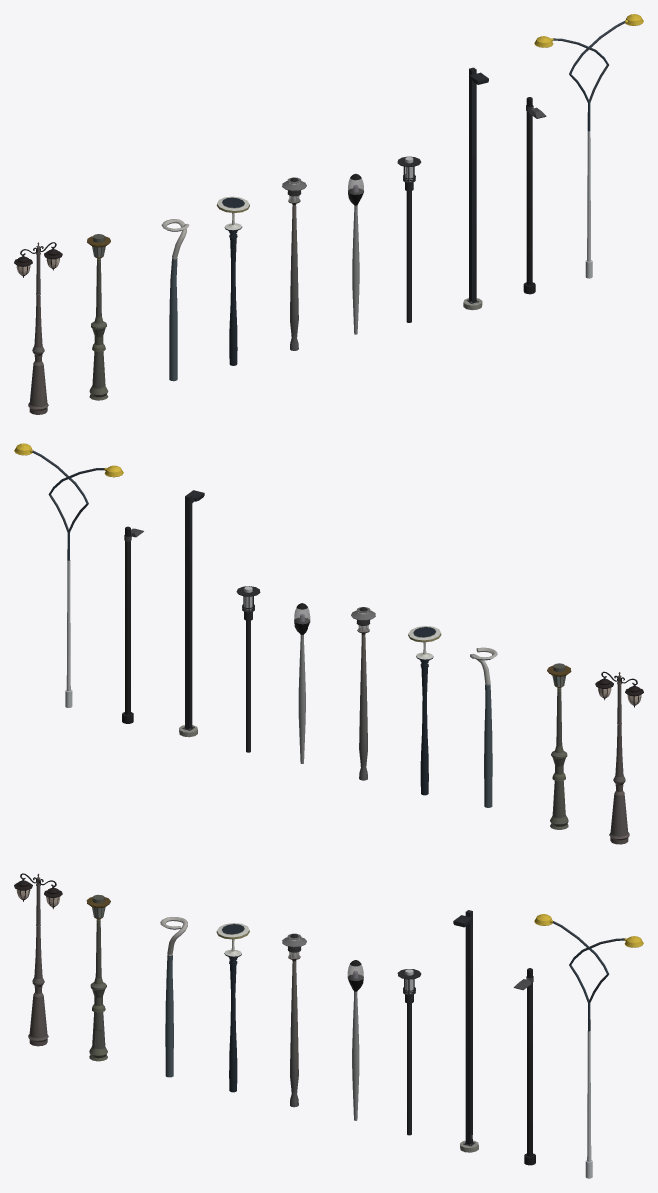
Rendered from StreetLights2.FBX.
3 views of the same model, one above another, from view 1: azimuth 30°, elevation 25°; view 2: azimuth 150°, elevation 25°; view 3: azimuth 330°, elevation 25° (orthographic).
Parts seen in each view (by area): view 1: Object1, Object8, Object2, Object10, Object4, Object9, Object5, Object3, Object7, Object6; view 2: Object1, Object8, Object2, Object10, Object4, Object5, Object3, Object9, Object7, Object6; view 3: Object1, Object8, Object2, Object10, Object4, Object5, Object3, Object9, Object7, Object6.
Part boxes in pixels (bbox=[...]): Object1: bbox=[14, 242, 62, 414]; Object8: bbox=[463, 67, 488, 310]; Object2: bbox=[87, 234, 110, 400]; Object10: bbox=[534, 14, 643, 278]; Object4: bbox=[216, 196, 249, 365]; Object9: bbox=[523, 97, 546, 294]; Object5: bbox=[282, 177, 306, 350]; Object3: bbox=[161, 219, 189, 381]; Object7: bbox=[397, 156, 421, 322]; Object6: bbox=[348, 173, 363, 334]; Object1: bbox=[595, 671, 643, 844]; Object8: bbox=[179, 490, 204, 737]; Object2: bbox=[547, 663, 571, 829]; Object10: bbox=[14, 443, 123, 707]; Object4: bbox=[408, 626, 441, 795]; Object5: bbox=[351, 607, 375, 780]; Object3: bbox=[470, 647, 497, 807]; Object9: bbox=[122, 526, 143, 723]; Object7: bbox=[236, 586, 260, 752]; Object6: bbox=[294, 603, 310, 763]; Object1: bbox=[14, 873, 62, 1046]; Object8: bbox=[453, 910, 478, 1152]; Object2: bbox=[86, 894, 110, 1061]; Object10: bbox=[534, 914, 643, 1178]; Object4: bbox=[216, 923, 249, 1092]; Object5: bbox=[282, 933, 306, 1107]; Object3: bbox=[160, 917, 187, 1077]; Object9: bbox=[513, 968, 535, 1165]; Object7: bbox=[397, 969, 421, 1135]; Object6: bbox=[347, 960, 363, 1120].
Size of the model in its own units: 211 by 81.09 by 12.22.
